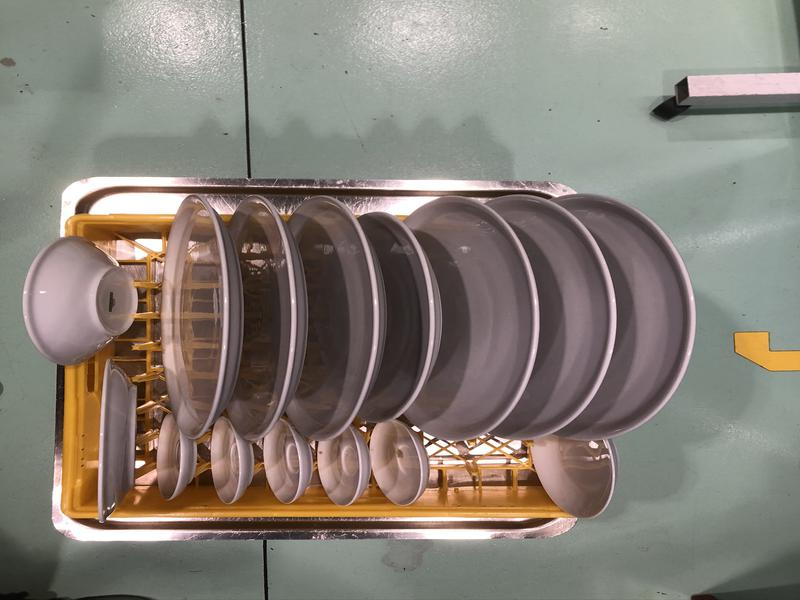Dish: (557, 196, 695, 441), (405, 196, 539, 441), (486, 194, 612, 439), (284, 196, 385, 441), (220, 195, 304, 440), (162, 196, 242, 439), (356, 209, 438, 421), (523, 441, 621, 518), (97, 362, 136, 521), (366, 423, 422, 506), (206, 414, 252, 507), (315, 428, 366, 504), (263, 421, 309, 501), (160, 413, 198, 497)
Inclined_dish: (22, 237, 134, 366)
